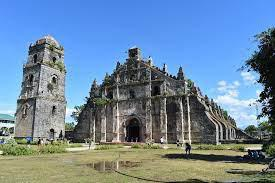paoay_church_paoay_ilocos_norte: (12, 30, 224, 146)
